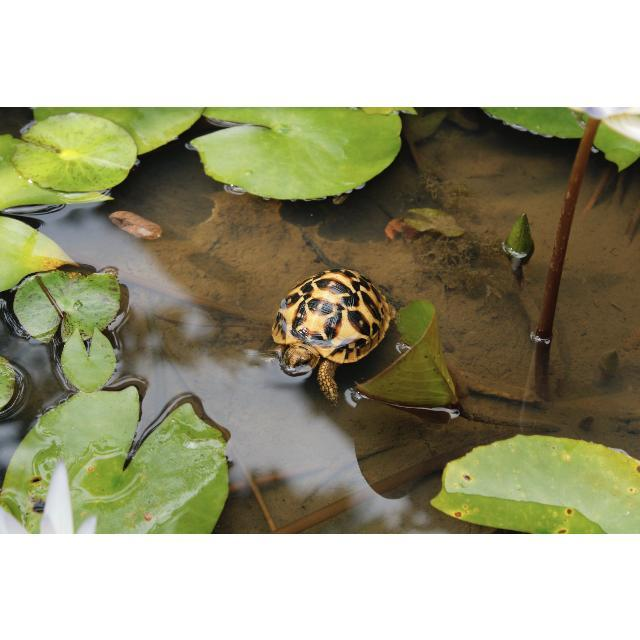turtle: (252, 267, 397, 405)
